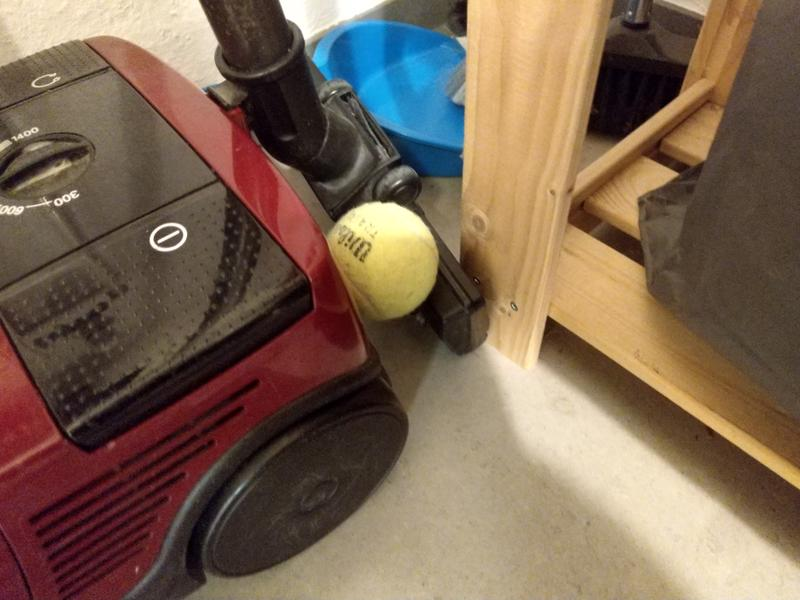Tennisball: (328, 197, 441, 326)
